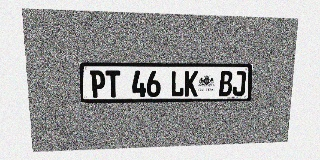4: (132, 70, 146, 97)
6: (147, 71, 161, 97)
B: (219, 71, 233, 96)
J: (232, 71, 246, 96)
K: (184, 71, 198, 97)
L: (170, 71, 184, 97)
P: (90, 70, 106, 98)
T: (105, 70, 121, 97)
